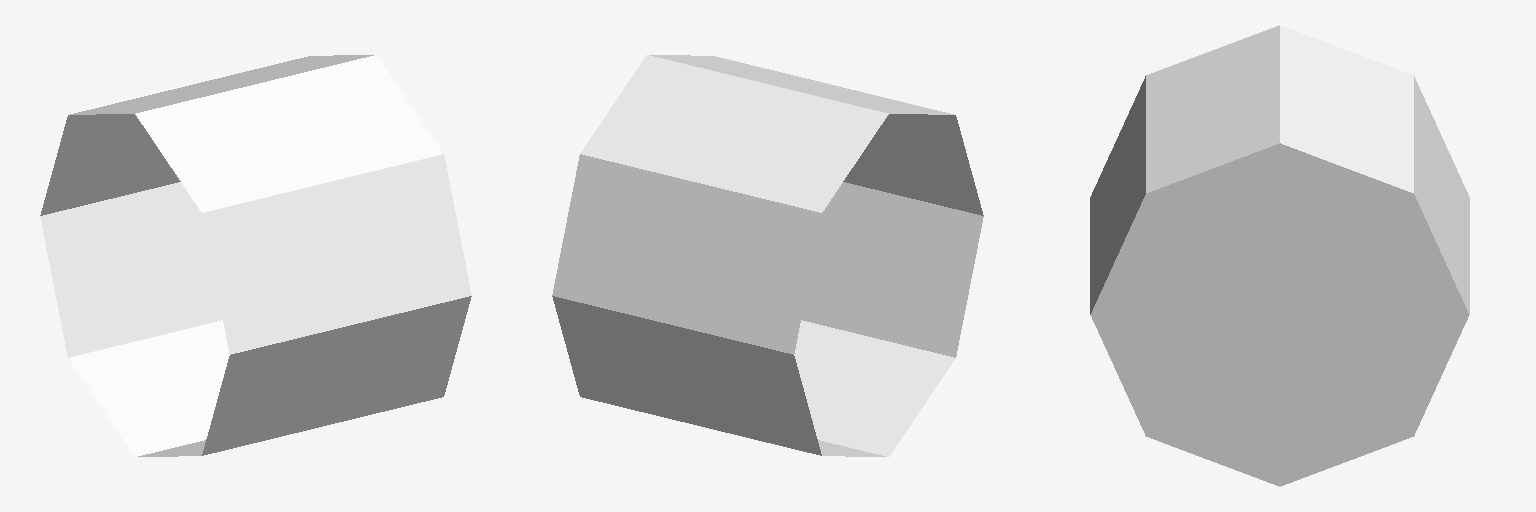
3 renders of one model, left to right at view 1: azimuth 30°, elevation 25°; view 2: azimuth 150°, elevation 25°; view 3: azimuth 270°, elevation 25°, orthographic.
Visible parts, largest first — view 1: buttons; view 2: buttons; view 3: buttons.
Part boxes in pixels (x1,y1,x2,y2): buttons: (40,55,471,456); buttons: (552,55,983,456); buttons: (1090,25,1469,486).
Size of the model in its own units: 0.1195 by 0.162 by 0.162.
1 materials, 1 textured.